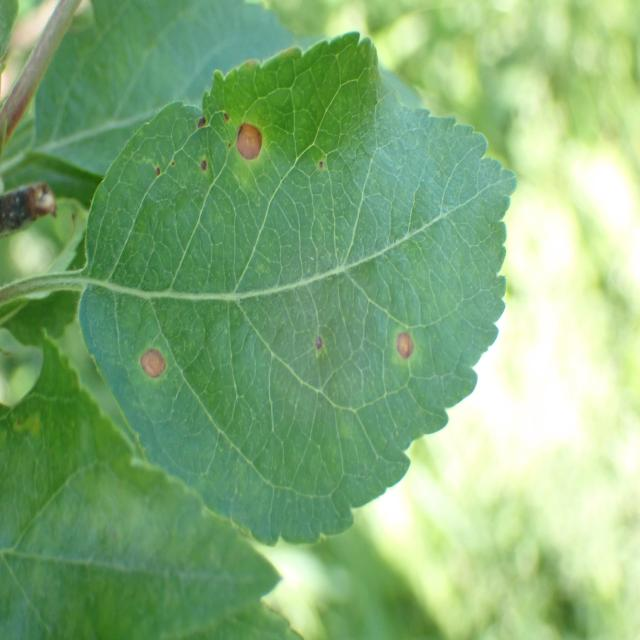Black Rot: (368, 292, 442, 398), (231, 92, 272, 195), (128, 340, 172, 401), (149, 148, 173, 198), (220, 94, 242, 148), (302, 319, 332, 357), (197, 150, 216, 190), (190, 108, 212, 140)
